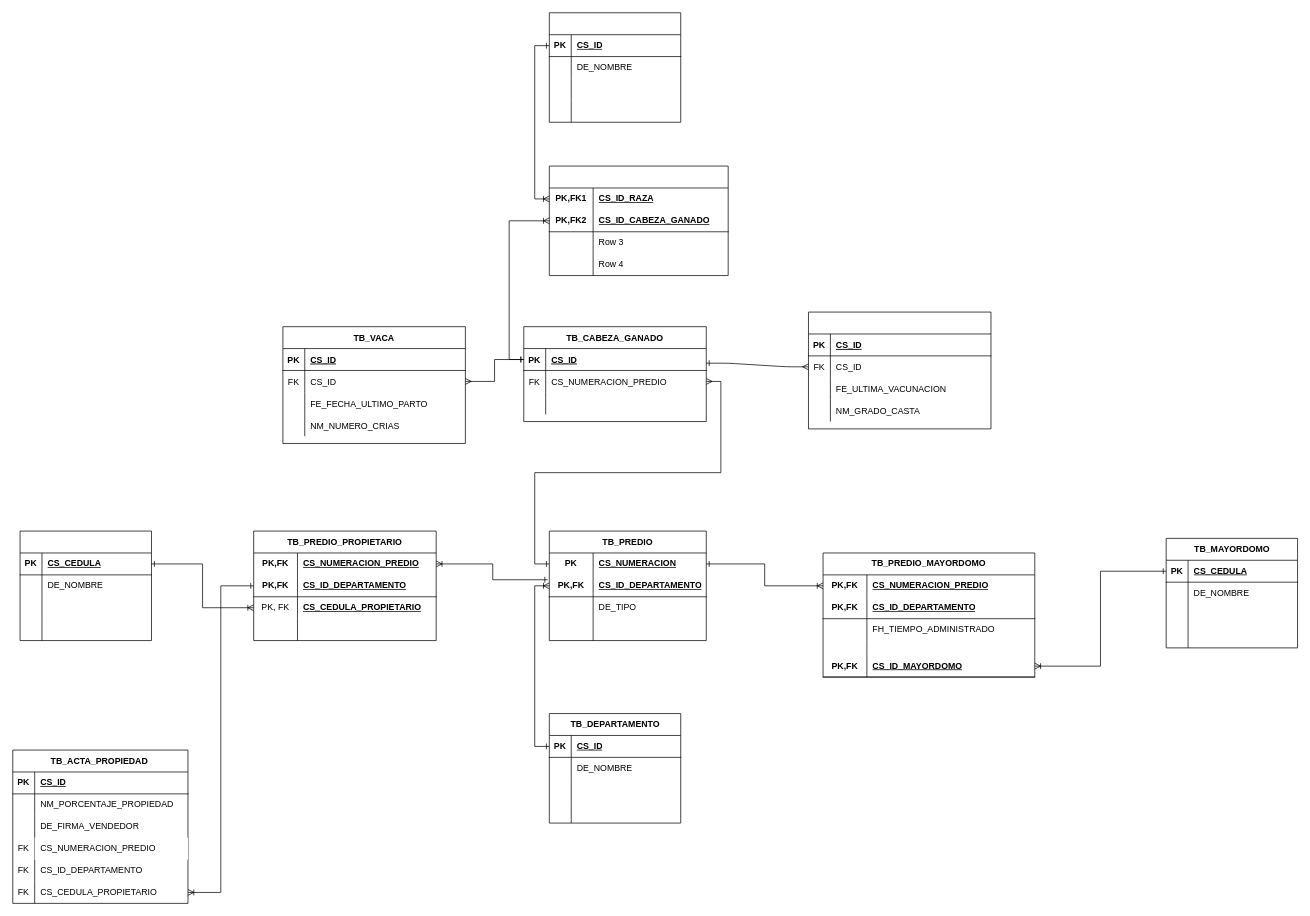
Image size: 1310x916. Some labels were removed from this diagram. The box of each missing label's shape, as (x1, y1, x2, y2) in pixels:
TB_PROPIETARIO: (19, 530, 151, 641)
TB_RAZA: (549, 12, 681, 122)
TB_RAZA_CABEZA_GANADO: (549, 165, 728, 276)
TB_TORO: (808, 311, 991, 429)
